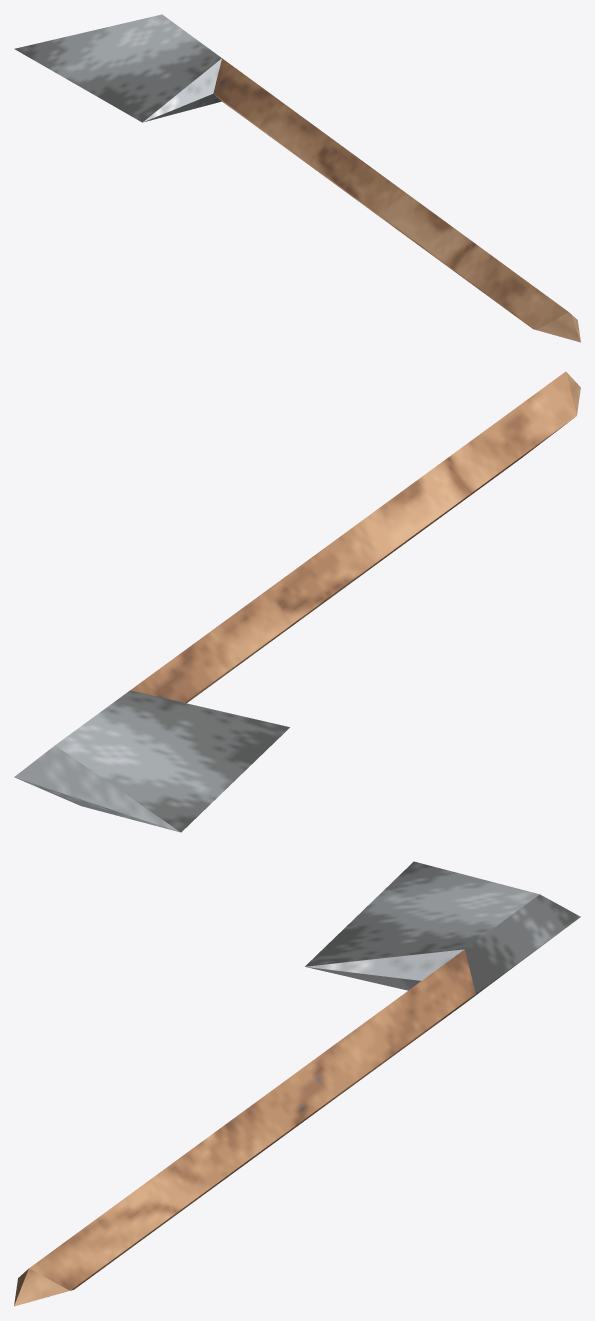
Rendered from Axe.fbx.
3 views of the same model, one above another, from view 1: azimuth 30°, elevation 25°; view 2: azimuth 150°, elevation 25°; view 3: azimuth 330°, elevation 25° (orthographic). The views are drawn at different scales.
Visible parts, largest first — view 1: Axe; view 2: Axe; view 3: Axe.
Part boxes in pixels (bbox=[...]): Axe: bbox=[14, 14, 580, 342]; Axe: bbox=[14, 371, 580, 832]; Axe: bbox=[14, 861, 580, 1306].
Size of the model in its own units: 70 by 20 by 370.
1 material, 1 textured.
